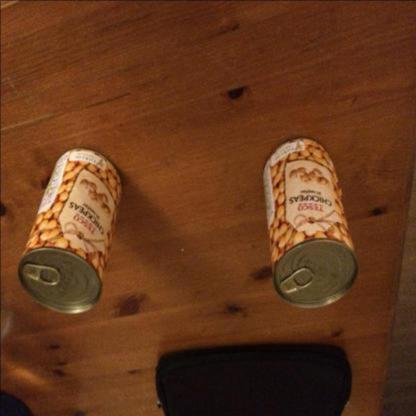Can: (18, 148, 122, 313), (262, 138, 358, 307)
Pop tab: (279, 268, 314, 294), (23, 264, 60, 286)
